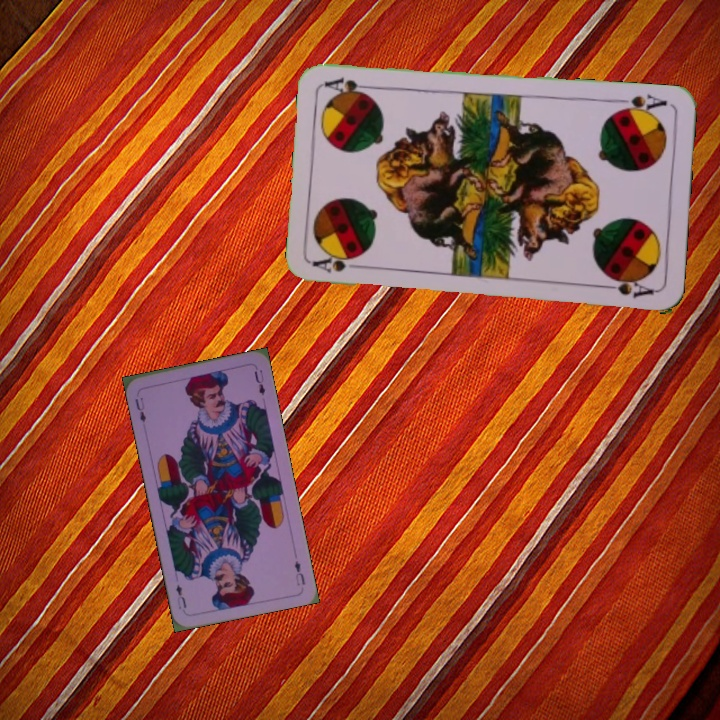EU: (131, 394, 148, 429), (290, 557, 308, 589)
SA: (611, 90, 670, 118), (309, 254, 369, 276)
